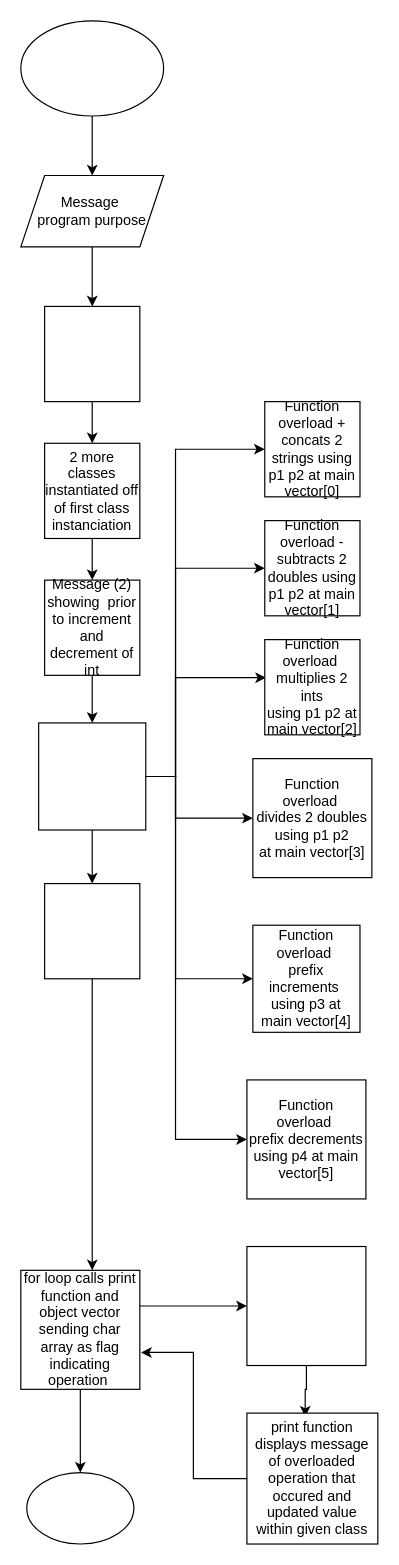
This 399x1565 diagram has some shape labels left out. Each missing label, with the box of its shape:
array(4), vector, and 2 classes created: (43, 305, 140, 402)
Assignment04chap10 start: (20, 20, 164, 116)
END: (26, 1471, 134, 1544)
Message (2) showing post increment and decrement of int: (43, 882, 140, 979)
switch statment takes char param indicating operation: (246, 1245, 366, 1366)
vector used to push in classes of Overload Demo using their overload calls: (37, 722, 146, 830)
